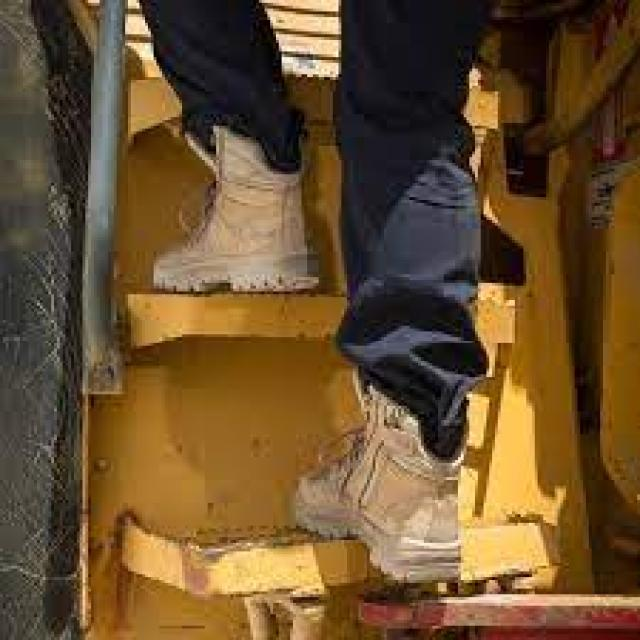shoes: (288, 389, 488, 597), (148, 135, 319, 306)
